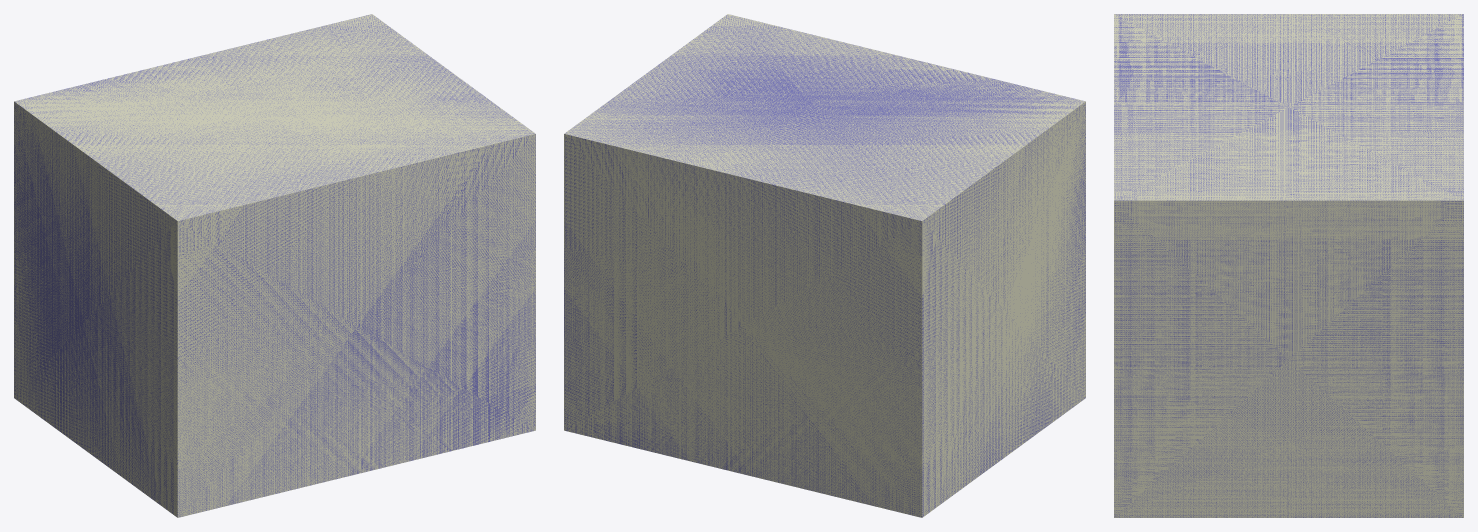
Rendered from cubee.fbx.
3 renders of one model, left to right at view 1: azimuth 30°, elevation 25°; view 2: azimuth 150°, elevation 25°; view 3: azimuth 270°, elevation 25°, orthographic. The views are drawn at different scales.
Visible parts, largest first — view 1: Furniture_1n7Cge2fOZGPYyqkOfpNrD1; view 2: Furniture_1n7Cge2fOZGPYyqkOfpNrD1; view 3: Furniture_1n7Cge2fOZGPYyqkOfpNrD1.
Part boxes in pixels (left/top/right/bottom): Furniture_1n7Cge2fOZGPYyqkOfpNrD1: left=14, top=14, right=535, bottom=517; Furniture_1n7Cge2fOZGPYyqkOfpNrD1: left=564, top=14, right=1085, bottom=517; Furniture_1n7Cge2fOZGPYyqkOfpNrD1: left=1114, top=14, right=1463, bottom=517.
Bounding box in the file's own units: 72 × 57 × 57.
